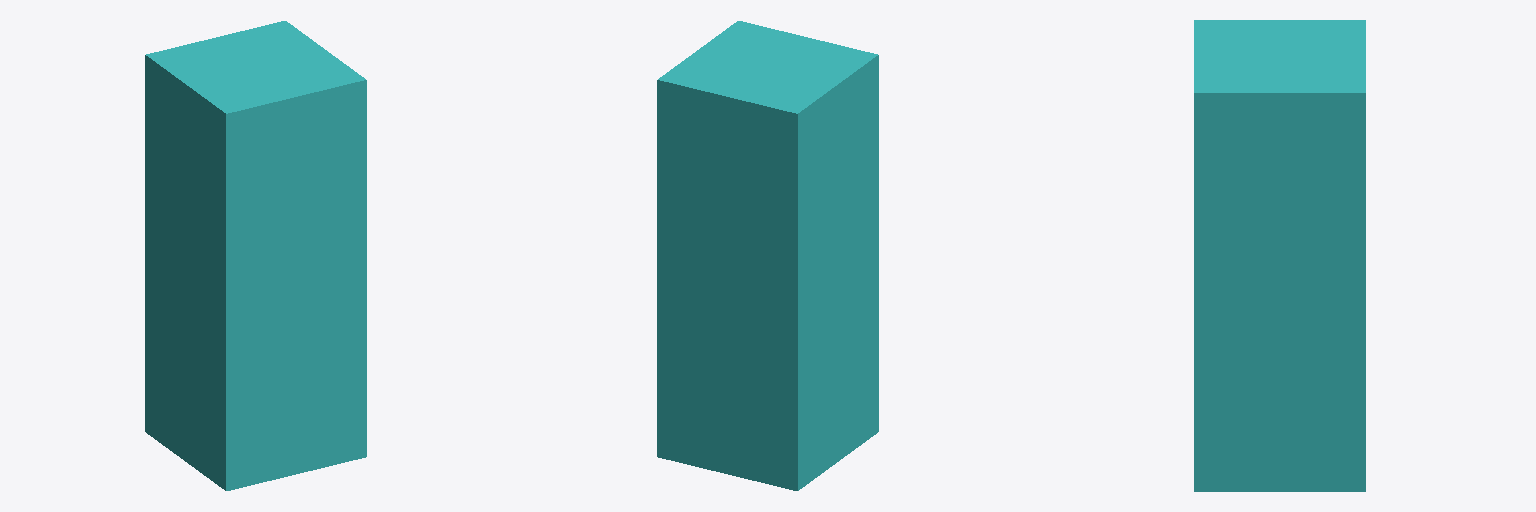
The robot description file, URDF, robot "box6":
<?xml version="1.0"?>
<robot name="box6">
	<link name="base">
	<inertial>
        	 <origin xyz="0 0 0" rpy="0 0 0"/>
        	 <mass value="0.05"/>
        	 <inertia ixx="0.000683333"  ixy="0"  ixz="0" iyy="0.000683333" iyz="0" izz="0.000683333" />
       </inertial>
	<visual>
			<origin xyz="0 0 0" rpy="0 0 0" />
			<geometry>
			<box size="0.07 0.07 0.18" />
			</geometry>
			<material>
				<color rgba="0.3 0.8 0.8 1" />
			</material>
	</visual>
  	<collision>
           		<origin xyz="0 0 0" rpy="0 0 0" />
            	<geometry>
			<box size="0.07 0.07 0.18" />
            	</geometry>
		<material>
				<color rgba="0.3 0.8 0.8 1" />
		</material>
        </collision>
	</link>
</robot>

--- What the picture shows (computed from the rendered views, not written in the file) ---
The picture shows the robot from 3 angles, left to right: view 1: azimuth 30°, elevation 25°; view 2: azimuth 150°, elevation 25°; view 3: azimuth 270°, elevation 25°; orthographic projection.
Model box6 with 1 links and 0 joints (none), rooted at base, posed every joint at zero.
Links seen in each view (by area): view 1: base; view 2: base; view 3: base.
Link boxes in pixels (x1,y1,x2,y2): base: (145,21,366,490); base: (657,21,878,490); base: (1194,20,1365,491).
Bounding box of the posed robot: 0.07 × 0.07 × 0.18 m (x, y, z).
Geometry: primitives only (box / cylinder / sphere), no mesh files.
